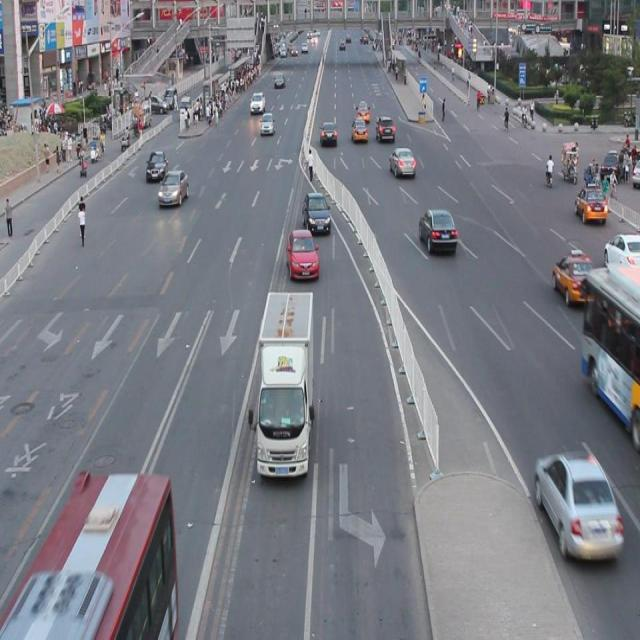bus: (255, 288, 313, 476)
car: (532, 451, 620, 558), (551, 252, 595, 304), (417, 207, 457, 254), (286, 227, 318, 281), (602, 232, 640, 275), (572, 185, 606, 223), (302, 190, 330, 234), (158, 170, 189, 206), (146, 150, 167, 182)
van: (1, 469, 179, 640), (579, 266, 640, 436)
